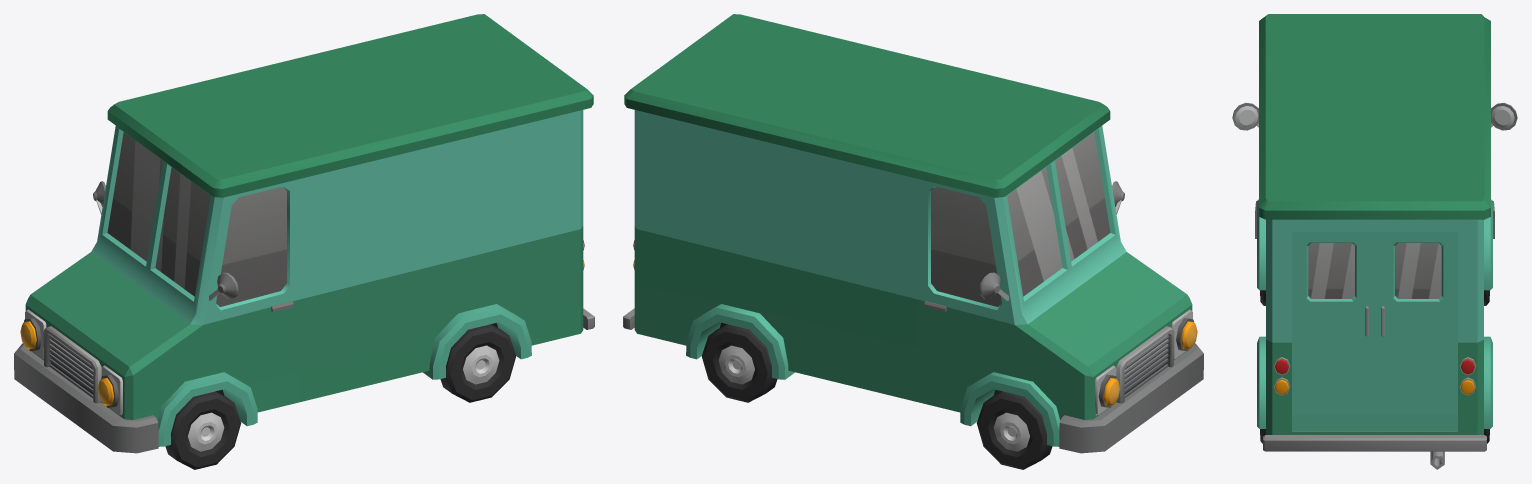
File: Car_16_I.gltf
3 renders of one model, left to right at view 1: azimuth 30°, elevation 25°; view 2: azimuth 150°, elevation 25°; view 3: azimuth 270°, elevation 25°, orthographic. The views are drawn at different scales.
Parts seen in each view (by area): view 1: Car_16_I, RL, FL; view 2: Car_16_I, RR, FR; view 3: Car_16_I.
Boxes of the visible parts, bbox=[...] form: Car_16_I: bbox=[14, 14, 594, 453]; RL: bbox=[440, 324, 516, 402]; FL: bbox=[165, 391, 241, 469]; Car_16_I: bbox=[623, 14, 1203, 453]; RR: bbox=[701, 324, 777, 402]; FR: bbox=[976, 391, 1052, 469]; Car_16_I: bbox=[1232, 14, 1517, 469].
Size of the model in its own units: 3.66 by 2.04 by 1.8.
4 materials, 4 textured.
